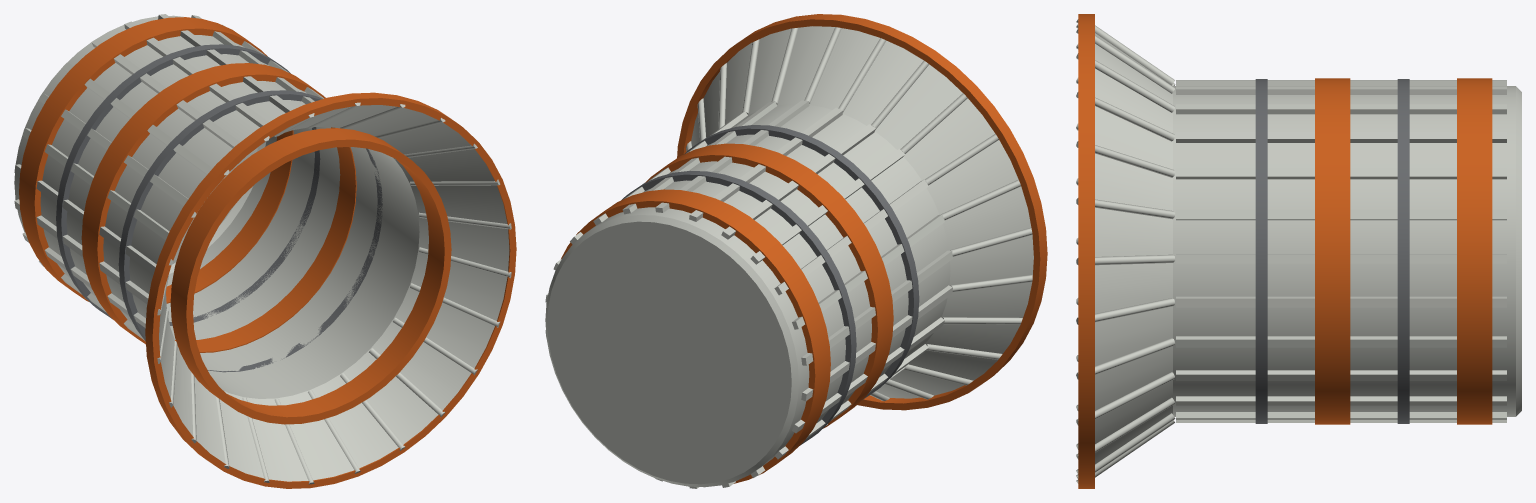
Rendered from u70_housing.obj.
3 views of the same model, side by side, from view 1: azimuth 30°, elevation 25°; view 2: azimuth 150°, elevation 25°; view 3: azimuth 270°, elevation 25° (orthographic). The views are drawn at different scales.
Parts seen in each view (by area): view 1: u70_housing; view 2: u70_housing; view 3: u70_housing.
Part boxes in pixels (x1,y1,x2,y2): u70_housing: (14,14,516,488); u70_housing: (545,14,1047,488); u70_housing: (1076,14,1521,488).
Size of the model in its own units: 4.02 by 4.02 by 3.77.
